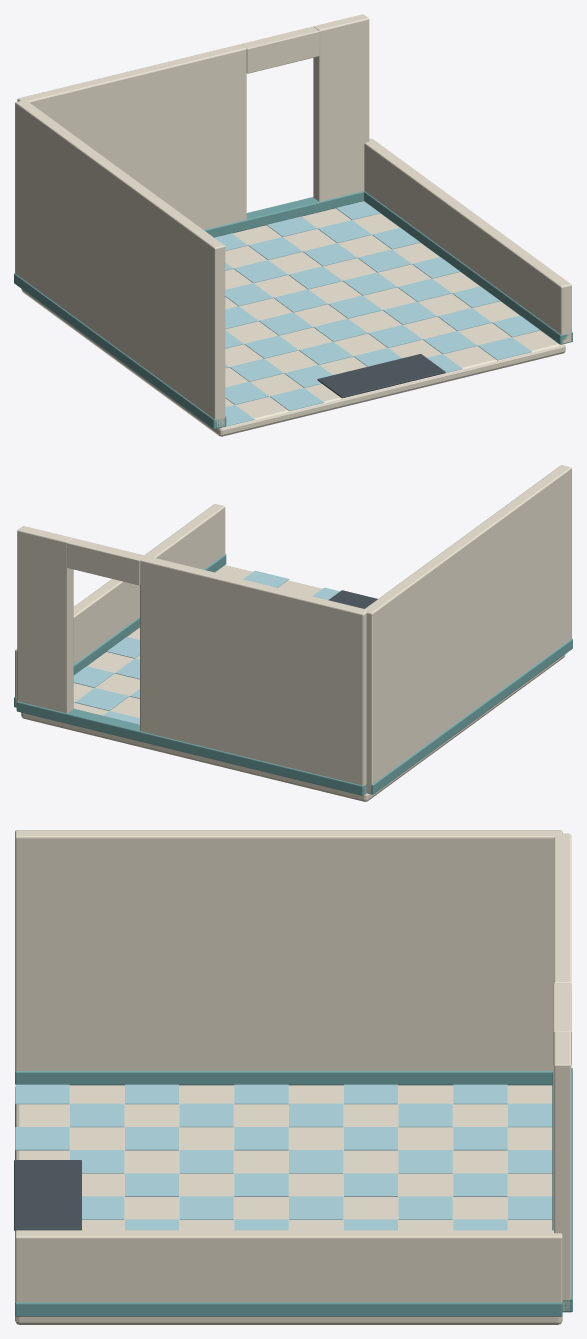
Rendered from lobby_T2_shell.glb.
3 views of the same model, one above another, from view 1: azimuth 30°, elevation 25°; view 2: azimuth 150°, elevation 25°; view 3: azimuth 270°, elevation 25° (orthographic). The views are drawn at different scales.
Parts seen in each view (by area): view 1: lobby_T2_shell__Static_Assembly; view 2: lobby_T2_shell__Static_Assembly; view 3: lobby_T2_shell__Static_Assembly.
Boxes of the visible parts, box(x1,y1,x2,y2) form: lobby_T2_shell__Static_Assembly: box(14, 14, 572, 436); lobby_T2_shell__Static_Assembly: box(14, 465, 572, 801); lobby_T2_shell__Static_Assembly: box(14, 830, 572, 1324).
Bounding box in the file's own units: 5.19 × 2.64 × 5.1.
